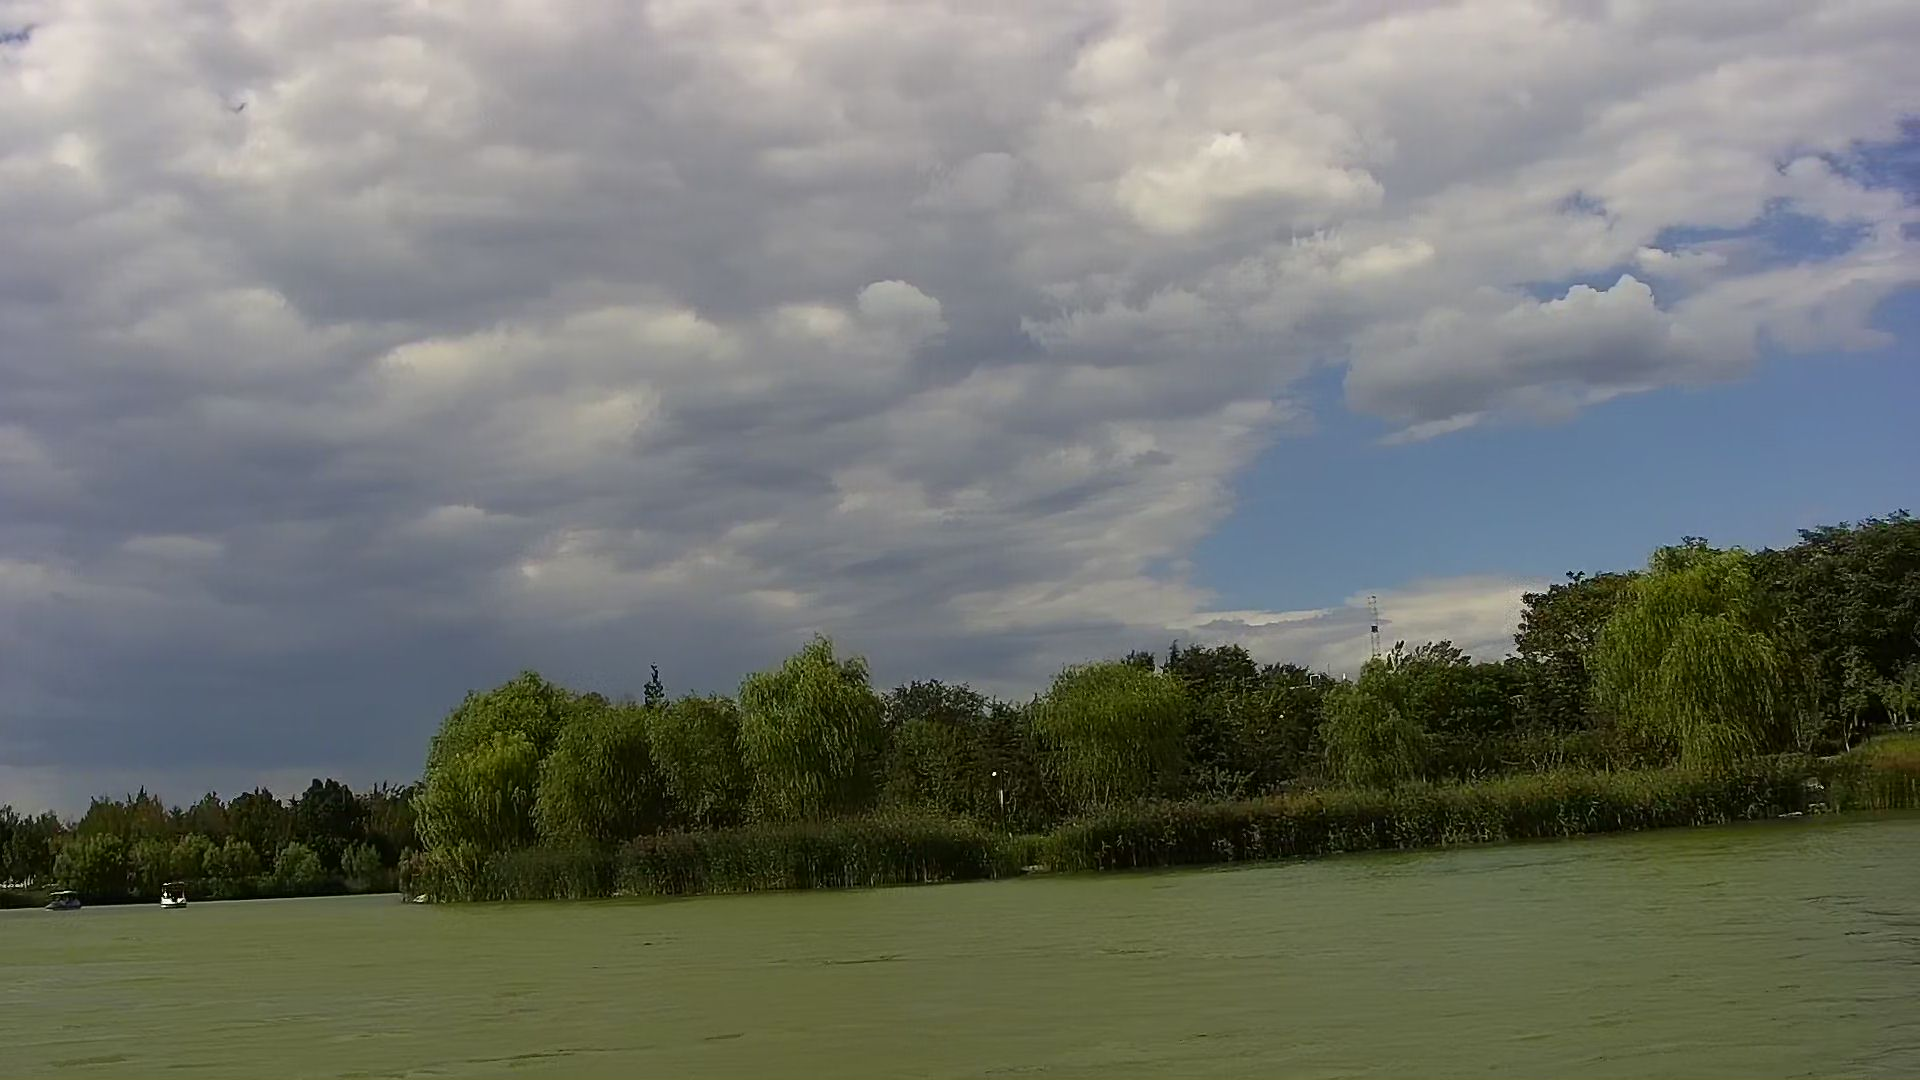boat: (44, 887, 82, 913), (161, 880, 186, 910)
